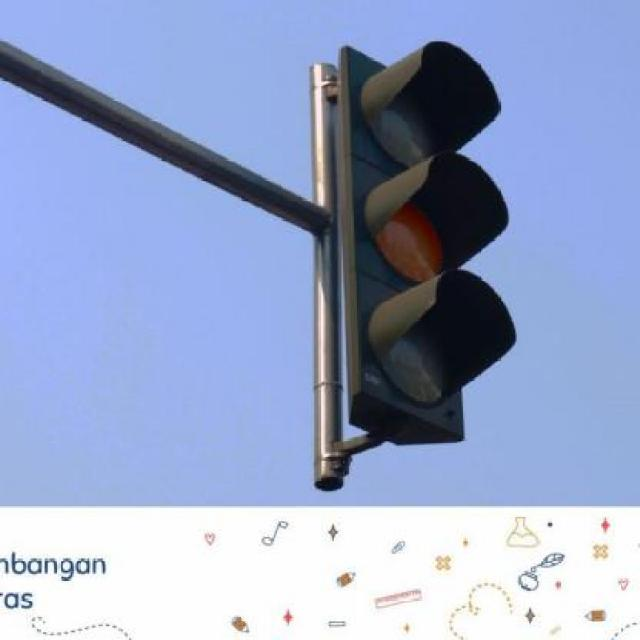traffic light: (337, 51, 471, 445)
